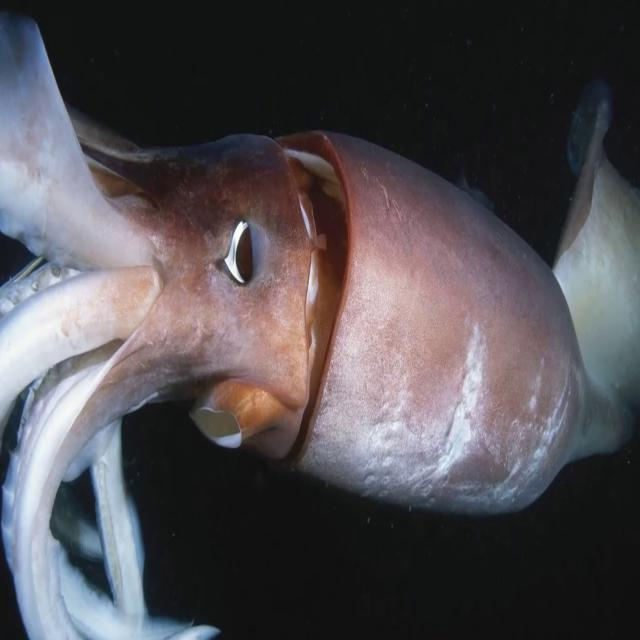squid: (0, 122, 574, 515)
